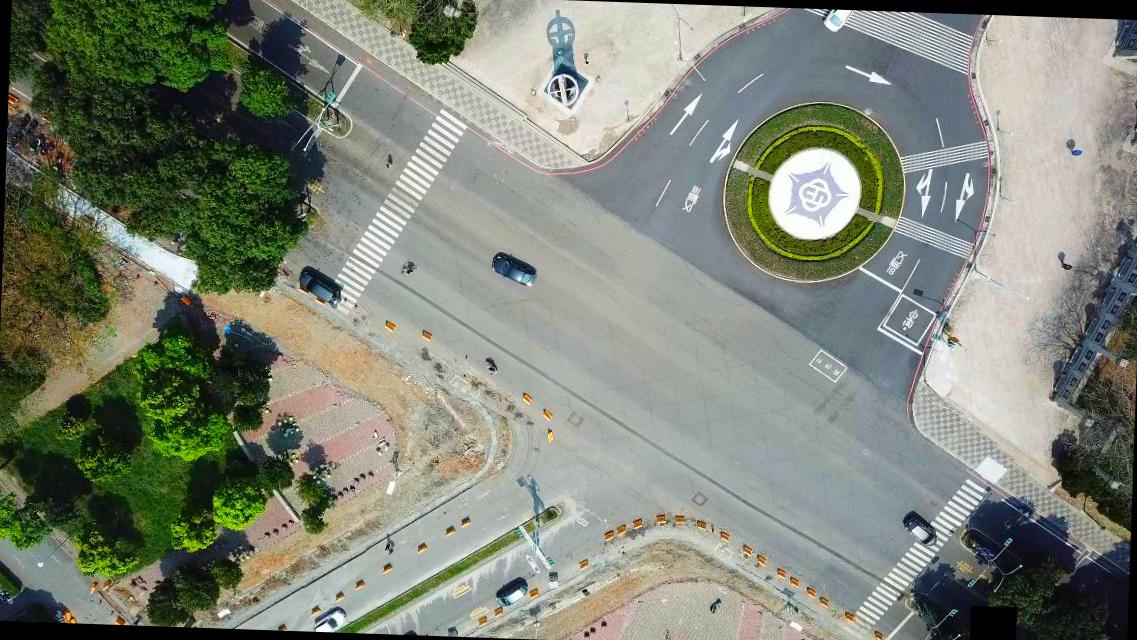vehicle: (490, 251, 537, 287), (298, 272, 340, 306), (902, 513, 938, 547), (495, 578, 527, 608), (819, 8, 855, 34), (312, 608, 347, 632)
